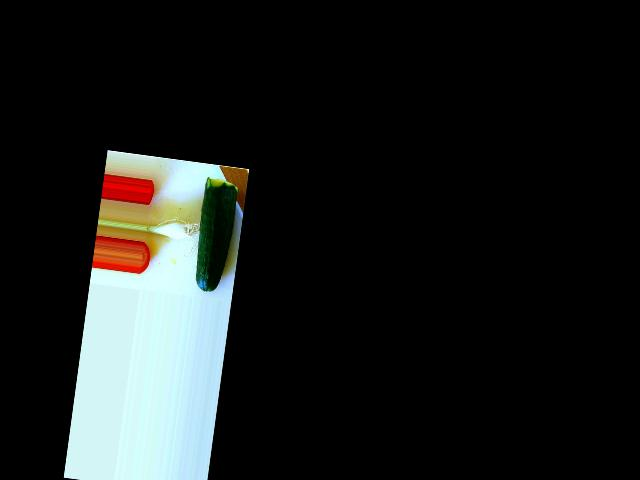cucumber: (191, 177, 239, 295)
